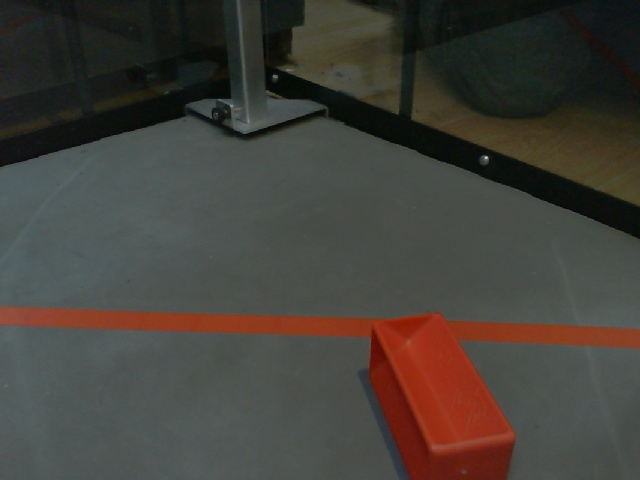RedSample: (371, 311, 519, 480)
